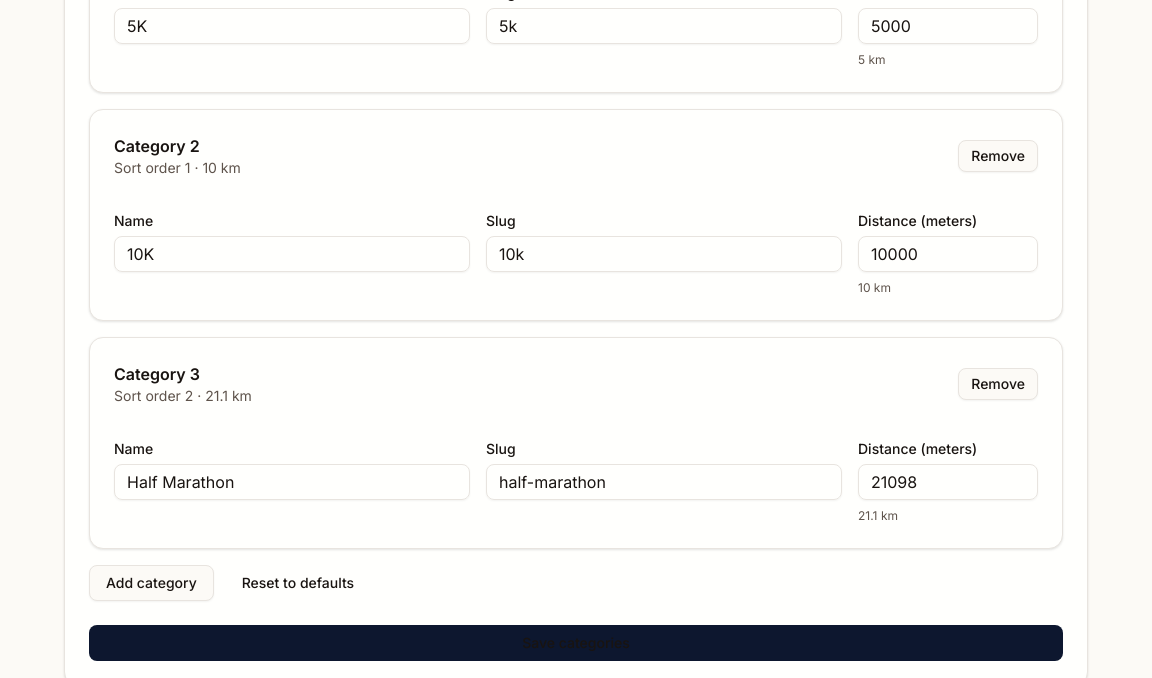
Test: EventCategoryConfigForm › shows capacity controls for categories returned after saving
(page scrolled)
Click the button "Save categories": (576, 643) [89,625,1063,661]
(page scrolled)
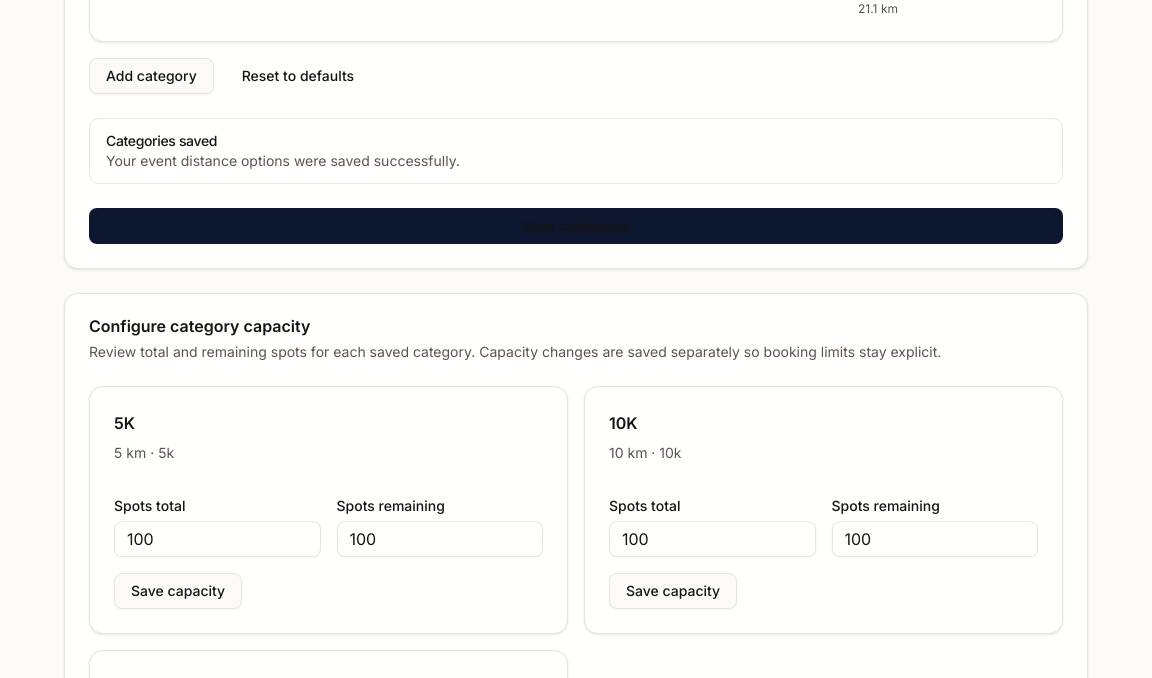
Expected: the text "Configure category capacity" is shown, [89,316,310,336]
Expected: the number of number fields labelled "Spots total" is 3
